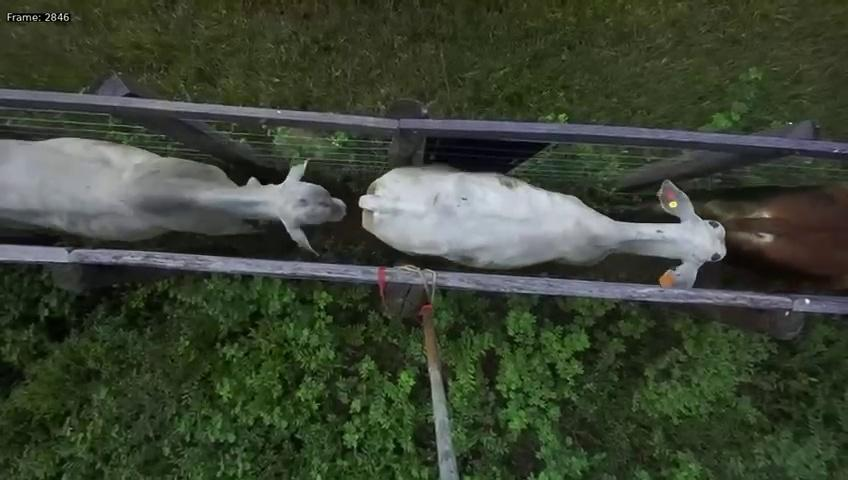cattle: (357, 155, 733, 291), (1, 132, 349, 258)
